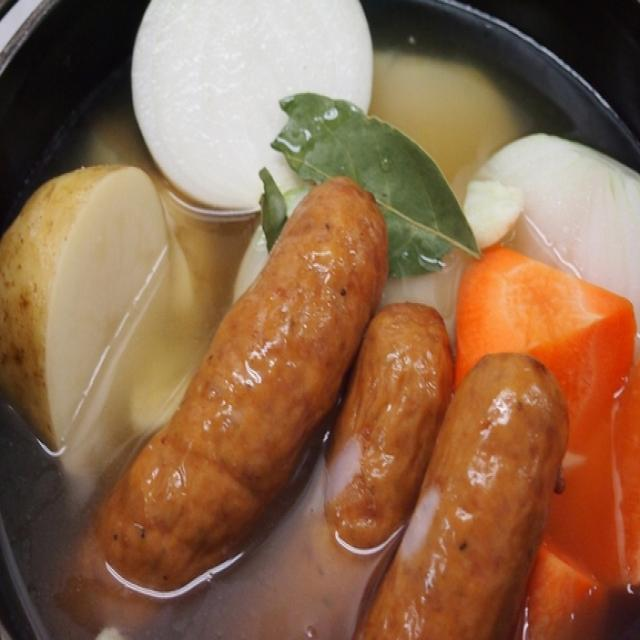汤锅炖物: (23, 24, 626, 620)
